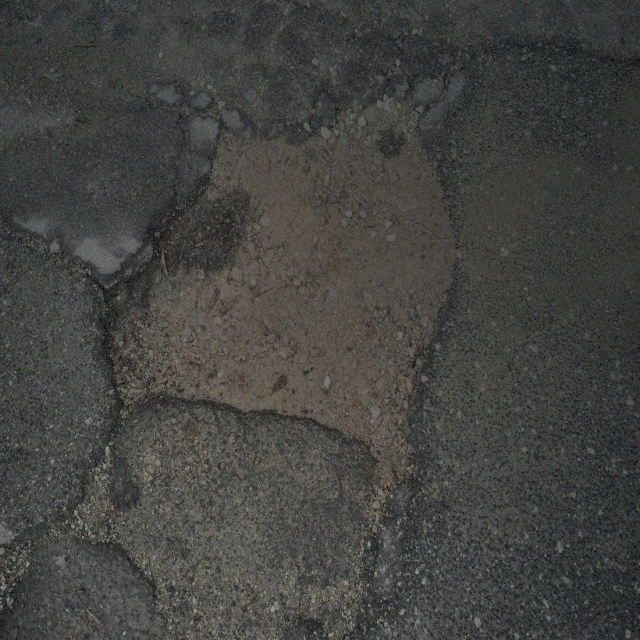pothole: (87, 73, 465, 506)
